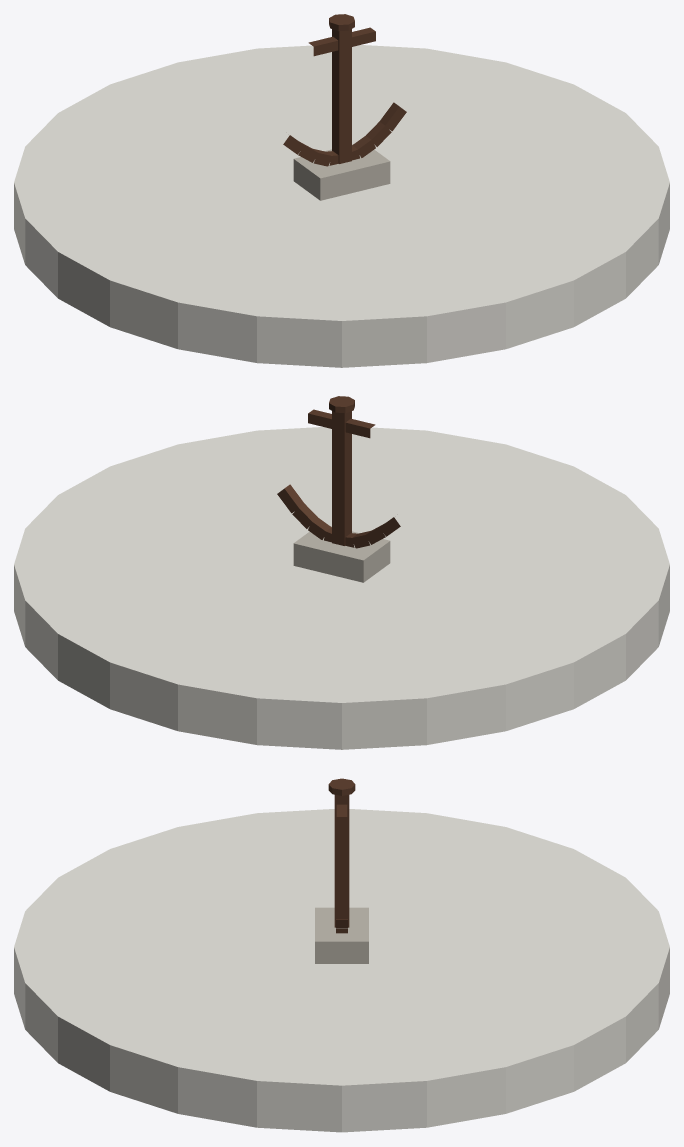
Rendered from rb_anchor.glb.
The picture shows the model from 3 angles, top to bottom: view 1: azimuth 30°, elevation 25°; view 2: azimuth 150°, elevation 25°; view 3: azimuth 270°, elevation 25°; orthographic projection.
Parts seen in each view (by area): view 1: rb_anchor_lod0; view 2: rb_anchor_lod0; view 3: rb_anchor_lod0.
Part boxes in pixels (x1=…): rb_anchor_lod0: x1=14, y1=14, x2=669, y2=367; rb_anchor_lod0: x1=14, y1=396, x2=669, y2=749; rb_anchor_lod0: x1=14, y1=778, x2=669, y2=1132.
Size of what is drawn, in the model's own units: 14.6 by 5.15 by 14.6.
